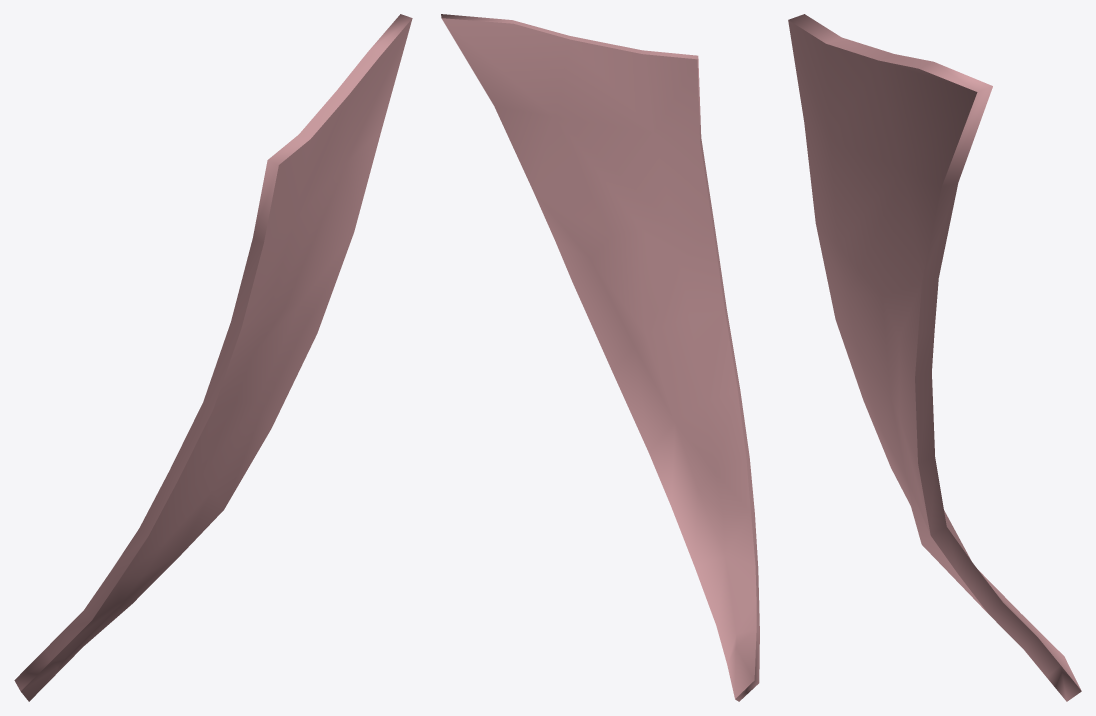
3 renders of one model, left to right at view 1: azimuth 30°, elevation 25°; view 2: azimuth 150°, elevation 25°; view 3: azimuth 270°, elevation 25°, orthographic. The views are drawn at different scales.
Parts seen in each view (by area): view 1: ZA_2123929263bbcad0; view 2: ZA_2123929263bbcad0; view 3: ZA_2123929263bbcad0.
Part boxes in pixels (<box>): ZA_2123929263bbcad0: <box>14,14,412,701</box>; ZA_2123929263bbcad0: <box>441,14,759,701</box>; ZA_2123929263bbcad0: <box>788,14,1081,701</box>.
Size of the model in its own units: 0.0921 by 0.1501 by 0.0474.
